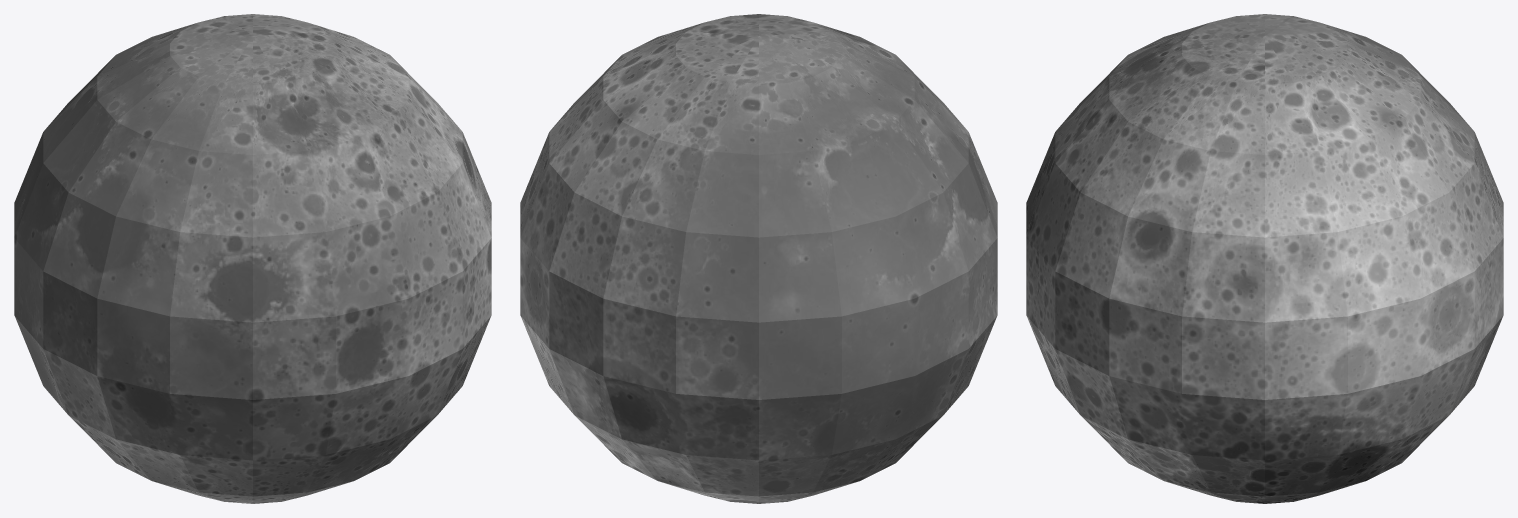
The model's file is moon.fbx.
The picture shows the model from 3 angles, left to right: view 1: azimuth 30°, elevation 25°; view 2: azimuth 150°, elevation 25°; view 3: azimuth 270°, elevation 25°; orthographic projection.
Visible parts, largest first — view 1: Sphere; view 2: Sphere; view 3: Sphere.
Boxes of the visible parts, box(x1,y1,x2,y2) form: Sphere: box(14, 14, 491, 503); Sphere: box(520, 14, 997, 503); Sphere: box(1026, 14, 1503, 503).
Bounding box in the file's own units: 394 × 400 × 388.
1 material, 1 textured.
